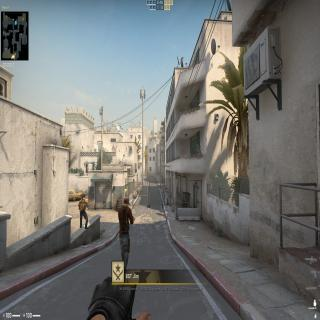T-Head: (123, 197, 129, 206), (82, 194, 86, 198)
